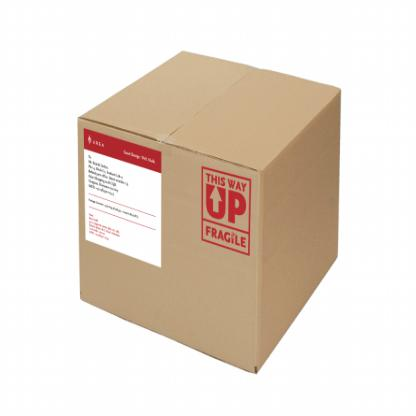label: (83, 126, 163, 268)
package: (79, 51, 338, 374)
